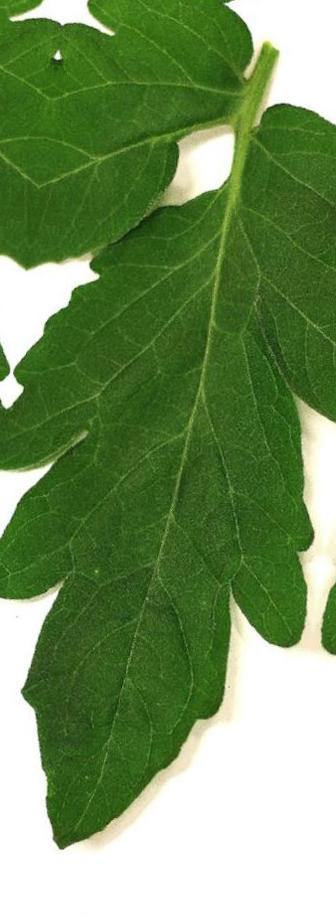Tomato leaf: (0, 64, 336, 906), (23, 0, 255, 319)
